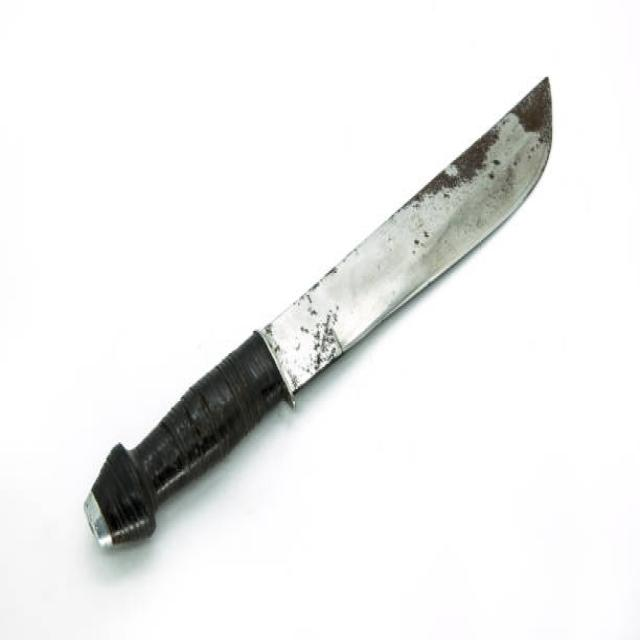knife: (81, 66, 566, 559)
